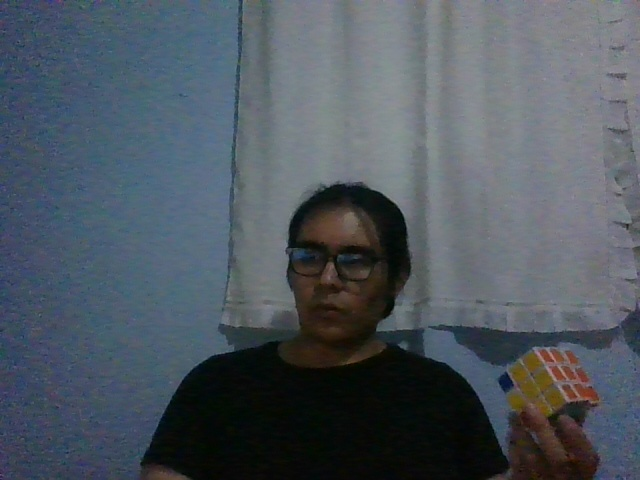rubik: (497, 347, 598, 432)
